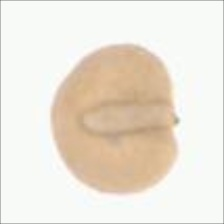L5: (80, 99, 172, 139), (164, 83, 184, 158)
L6: (48, 42, 182, 195)
